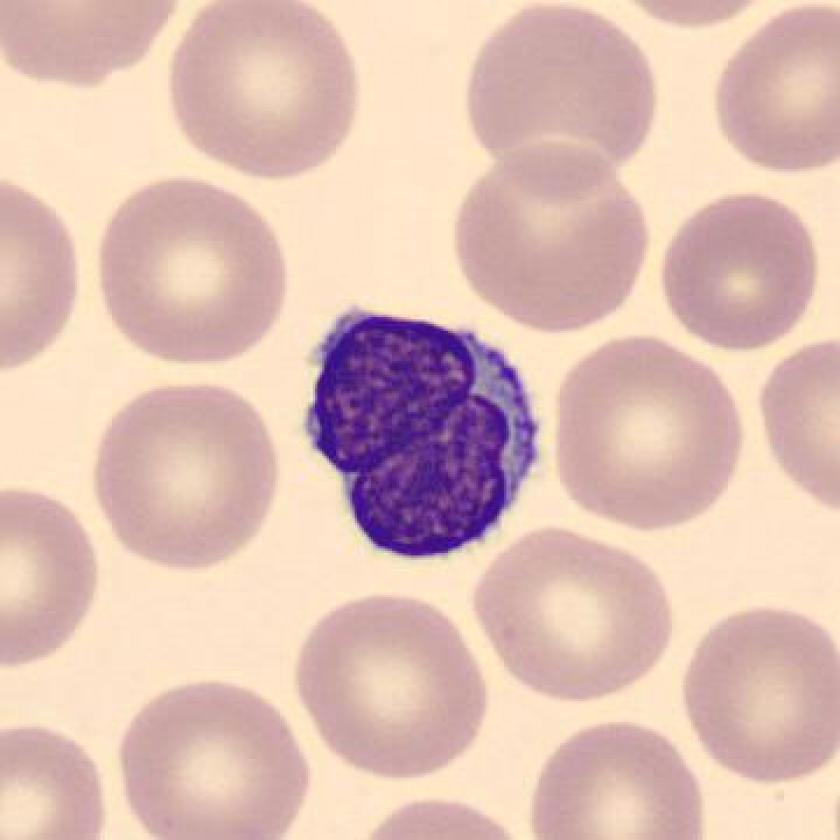lymphocyte: (288, 293, 552, 580)
